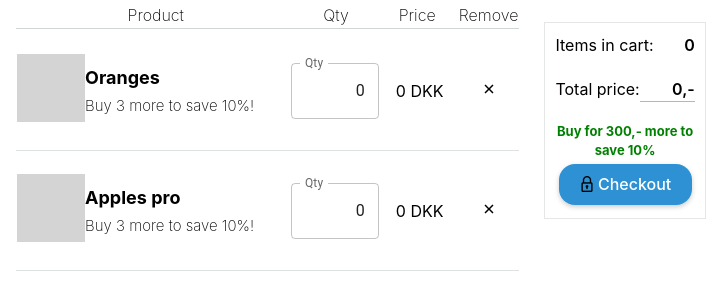
Test: Cart : With Items › show correct number of total items in the basket
In the field labelled "Qty": (335, 90) [291,62,379,118], type "2"
Then press Enter
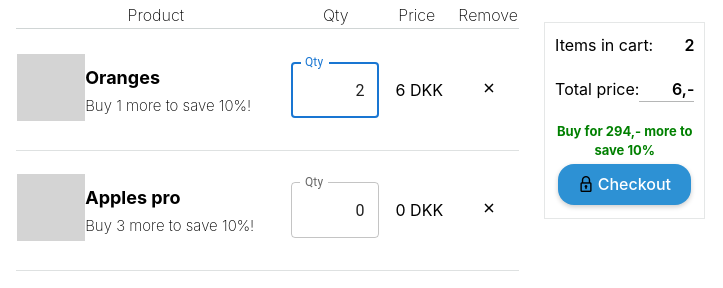
Check: the text with test id "totalItems" reads "2", box [684,35,694,55]
